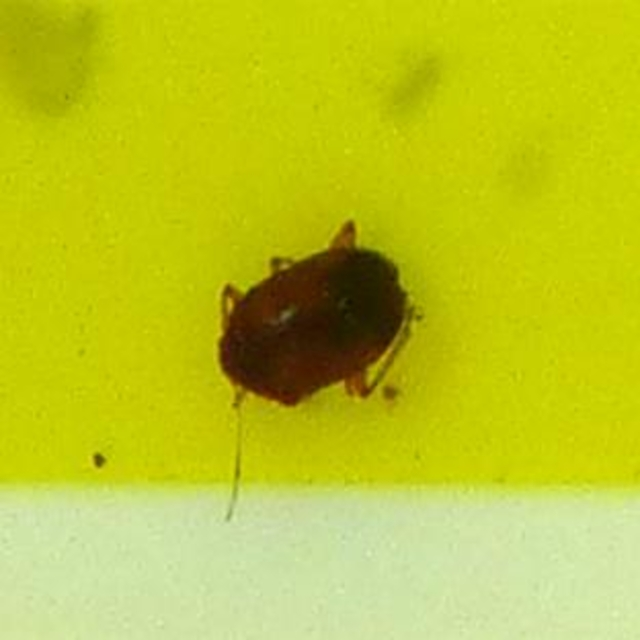Coleoptera: (205, 219, 435, 421)
